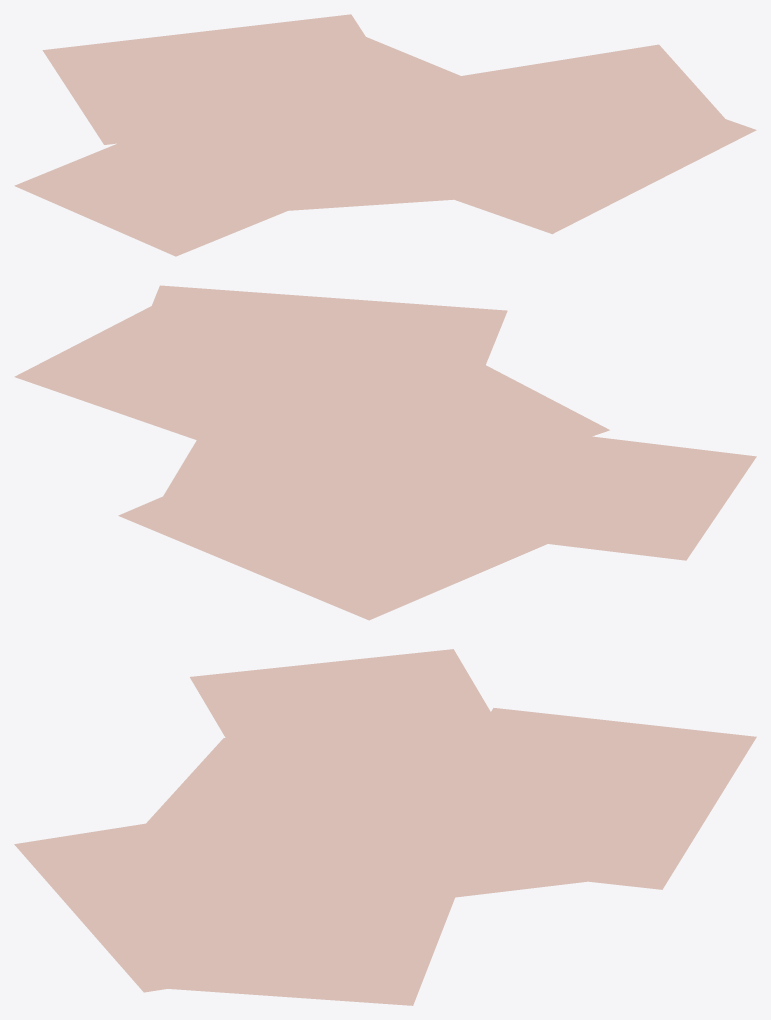
Rendered from papers2.fbx.
3 renders of one model, top to bottom at view 1: azimuth 30°, elevation 25°; view 2: azimuth 150°, elevation 25°; view 3: azimuth 270°, elevation 25°, orthographic. The views are drawn at different scales.
Parts seen in each view (by area): view 1: papers2; view 2: papers2; view 3: papers2.
Part boxes in pixels (box(x1,y1,x2,y2)): papers2: box(14, 14, 756, 256); papers2: box(14, 285, 756, 620); papers2: box(14, 649, 756, 1005).
Bounding box in the file's own units: 2489 × 21.4 × 2183.
